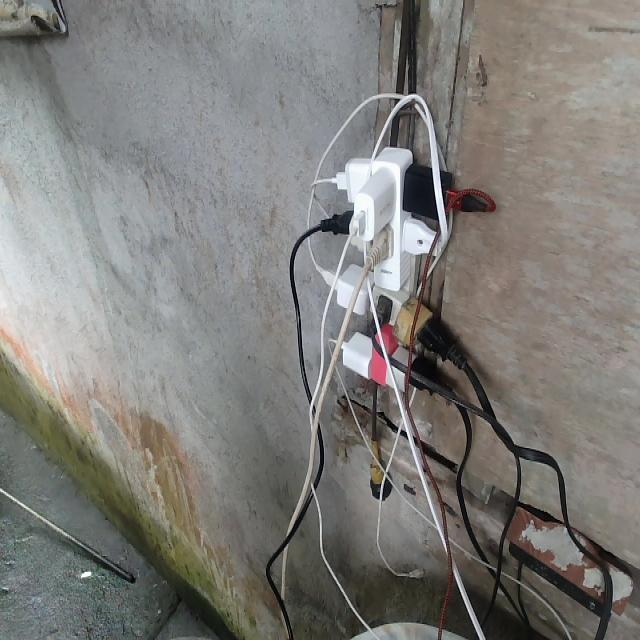-: (331, 143, 451, 393)
